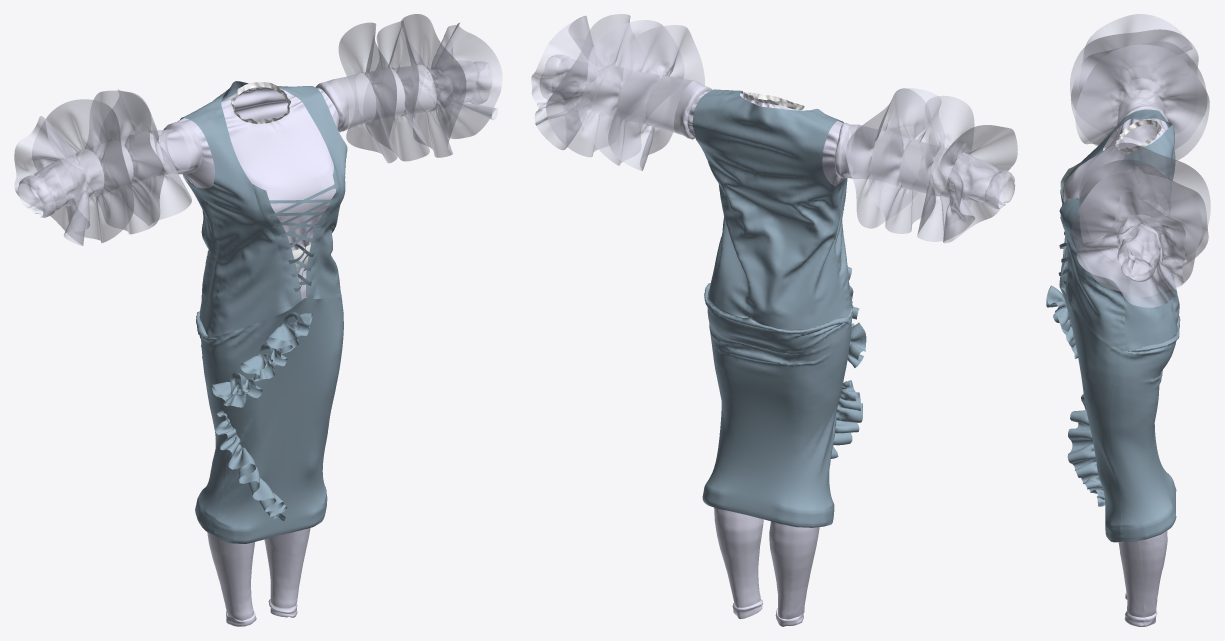
Rendered from G_clothe10.glb.
3 renders of one model, left to right at view 1: azimuth 30°, elevation 25°; view 2: azimuth 150°, elevation 25°; view 3: azimuth 270°, elevation 25°, orthographic. The views are drawn at different scales.
Parts seen in each view (by area): view 1: Garment; view 2: Garment; view 3: Garment.
Boxes of the visible parts, box(x1,y1,x2,y2) form: Garment: box(14, 14, 502, 626); Garment: box(531, 14, 1017, 626); Garment: box(1046, 14, 1210, 626).
Size of the model in its own units: 1.23 by 1.43 by 0.4118.
Materials: 1 (1 with a texture image).
